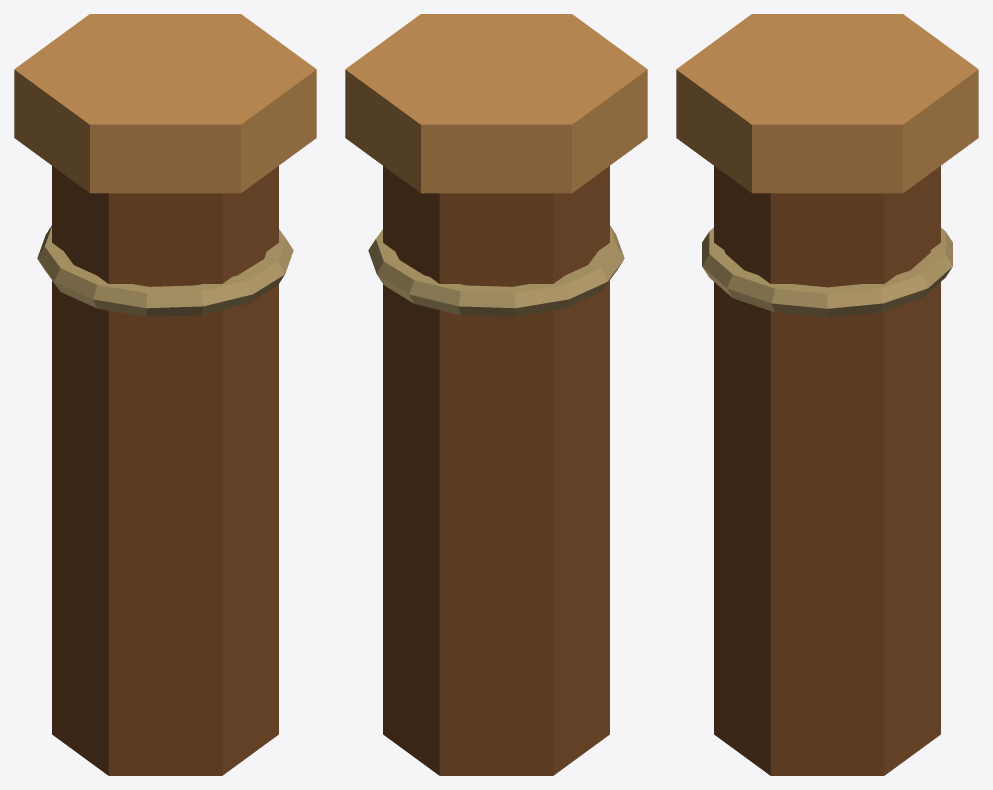
The model's file is town_mooring_post.glb.
3 renders of one model, left to right at view 1: azimuth 30°, elevation 25°; view 2: azimuth 150°, elevation 25°; view 3: azimuth 270°, elevation 25°, orthographic.
Parts seen in each view (by area): view 1: mooring_post; view 2: mooring_post; view 3: mooring_post.
Boxes of the visible parts, bbox=[...] form: mooring_post: bbox=[14, 14, 316, 775]; mooring_post: bbox=[345, 14, 647, 775]; mooring_post: bbox=[676, 14, 978, 775].
Size of the model in its own units: 0.3464 by 0.97 by 0.4.
